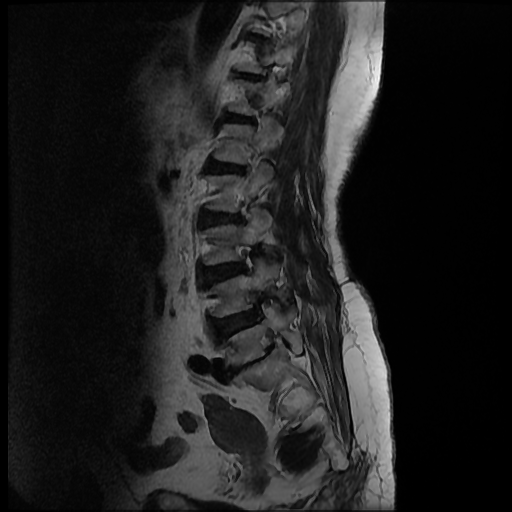LFS0: (230, 233, 267, 280)
